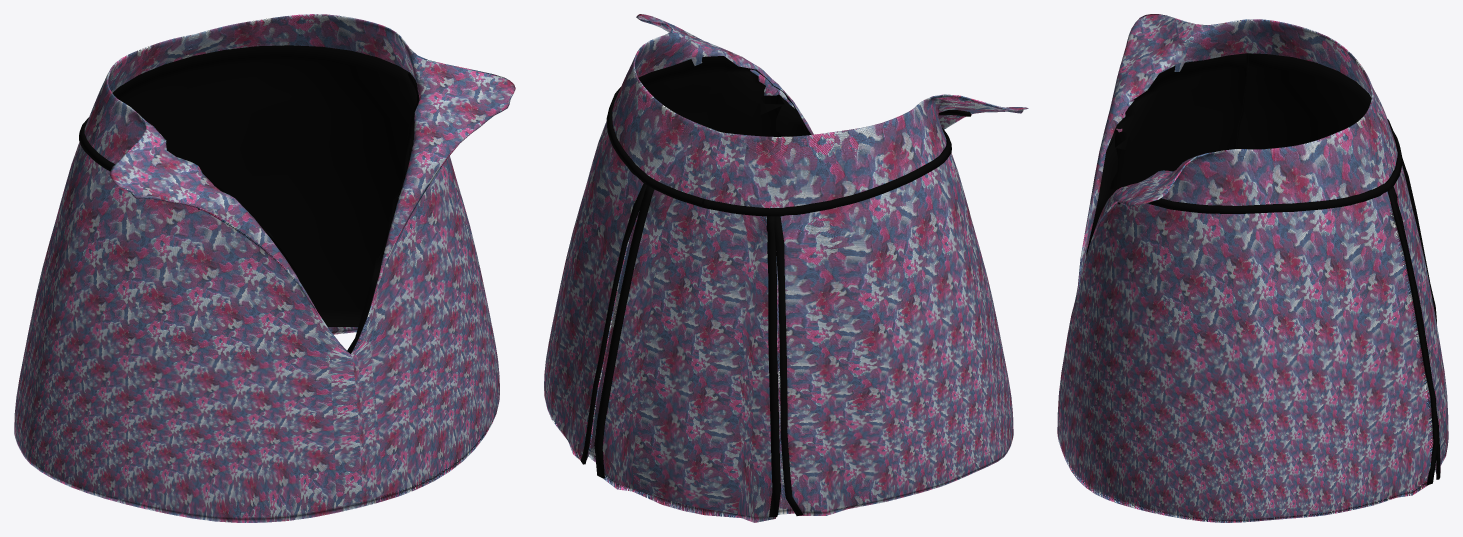
File: saiaaberta.gltf
3 views of the same model, side by side, from view 1: azimuth 30°, elevation 25°; view 2: azimuth 150°, elevation 25°; view 3: azimuth 270°, elevation 25° (orthographic). The views are drawn at different scales.
Visible parts, largest first — view 1: SaiaAberta; view 2: SaiaAberta; view 3: SaiaAberta.
Boxes of the visible parts, <box> form: SaiaAberta: <box>14,14,515,522</box>; SaiaAberta: <box>544,14,1028,522</box>; SaiaAberta: <box>1057,14,1448,522</box>.
Bounding box in the file's own units: 51.26 × 40.54 × 39.69.
2 materials, 1 textured.
